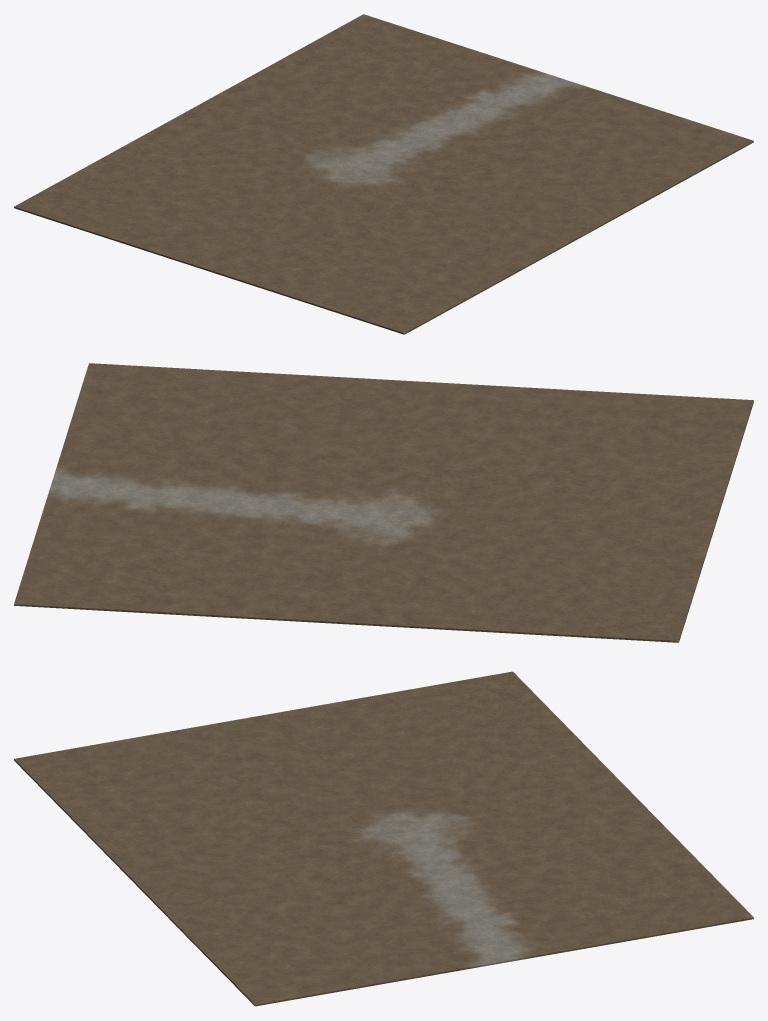
3 views of the same model, one above another, from view 1: azimuth 30°, elevation 25°; view 2: azimuth 150°, elevation 25°; view 3: azimuth 270°, elevation 25° (orthographic). The views are drawn at different scales.
Visible parts, largest first — view 1: Ground_-1_0_0_010, Ground_0_0_0_010_110, Ground_-1_0_0_110_010, Ground_-1_-1_0_000, Ground_-1_0_0_000, Ground_-1_-1_0_010, Ground_0_0_0_110, Ground_0_-1_0_010_110, Ground_-1_-1_0_110_000, Ground_0_0_0_010_100, Ground_-1_0_0_100_000, Ground_-1_0_0_100_010 (+28 smaller); view 2: Ground_0_0_0_110, Ground_0_0_0_100, Ground_0_-1_0_110, Ground_0_-1_0_100, Ground_-1_0_0_010, Ground_-1_-1_0_010, Ground_-1_0_0_110_010, Ground_-1_-1_0_000, Ground_-1_0_0_000, Ground_0_0_0_010_110, Ground_0_0_0_000_100, Ground_-1_-1_0_100_000 (+28 smaller); view 3: Ground_0_-1_0_000_100, Ground_-1_-1_0_100_000, Ground_-1_-1_0_000, Ground_-1_-1_0_010, Ground_0_-1_0_100, Ground_-1_0_0_000, Ground_-1_0_0_010, Ground_0_0_0_010_110, Ground_-1_-1_0_110_000, Ground_-1_0_0_100_000, Ground_0_0_0_000_110, Ground_0_-1_0_010_100 (+28 smaller).
Boxes of the visible parts, x1,y1,x2,y2 form: Ground_-1_0_0_010: [355, 269, 491, 334]; Ground_0_0_0_010_110: [62, 198, 203, 255]; Ground_-1_0_0_110_010: [258, 262, 398, 318]; Ground_-1_-1_0_000: [618, 125, 753, 189]; Ground_-1_0_0_000: [443, 221, 579, 286]; Ground_-1_-1_0_010: [531, 173, 666, 238]; Ground_0_0_0_110: [14, 158, 149, 223]; Ground_0_-1_0_010_110: [238, 102, 378, 157]; Ground_-1_-1_0_110_000: [477, 141, 617, 196]; Ground_0_0_0_010_100: [107, 174, 247, 229]; Ground_-1_0_0_100_000: [389, 189, 529, 245]; Ground_-1_0_0_100_010: [346, 213, 486, 269]; Ground_0_0_0_110: [512, 601, 688, 642]; Ground_0_0_0_100: [346, 592, 521, 633]; Ground_0_-1_0_110: [180, 583, 355, 624]; Ground_0_-1_0_100: [14, 574, 189, 614]; Ground_-1_0_0_010: [578, 391, 753, 430]; Ground_-1_-1_0_010: [246, 372, 421, 411]; Ground_-1_0_0_110_010: [643, 425, 744, 490]; Ground_-1_-1_0_000: [80, 363, 254, 402]; Ground_-1_0_0_000: [412, 381, 587, 420]; Ground_0_0_0_010_110: [605, 546, 706, 611]; Ground_0_0_0_000_100: [356, 532, 457, 596]; Ground_-1_-1_0_100_000: [61, 393, 162, 457]; Ground_0_-1_0_000_100: [537, 897, 691, 951]; Ground_-1_-1_0_100_000: [287, 941, 442, 995]; Ground_-1_-1_0_000: [194, 932, 317, 1006]; Ground_-1_-1_0_010: [134, 871, 256, 944]; Ground_0_-1_0_100: [632, 856, 753, 929]; Ground_-1_0_0_000: [74, 809, 196, 882]; Ground_-1_0_0_010: [14, 748, 135, 821]; Ground_0_0_0_010_110: [326, 682, 480, 734]; Ground_-1_-1_0_110_000: [227, 880, 381, 932]; Ground_-1_0_0_100_000: [167, 818, 320, 870]; Ground_0_0_0_000_110: [386, 744, 540, 796]; Ground_0_-1_0_010_100: [477, 836, 630, 888].
Bounding box in the file's own units: 140 × 0.33 × 132.
Materials: 40 (40 with a texture image).
